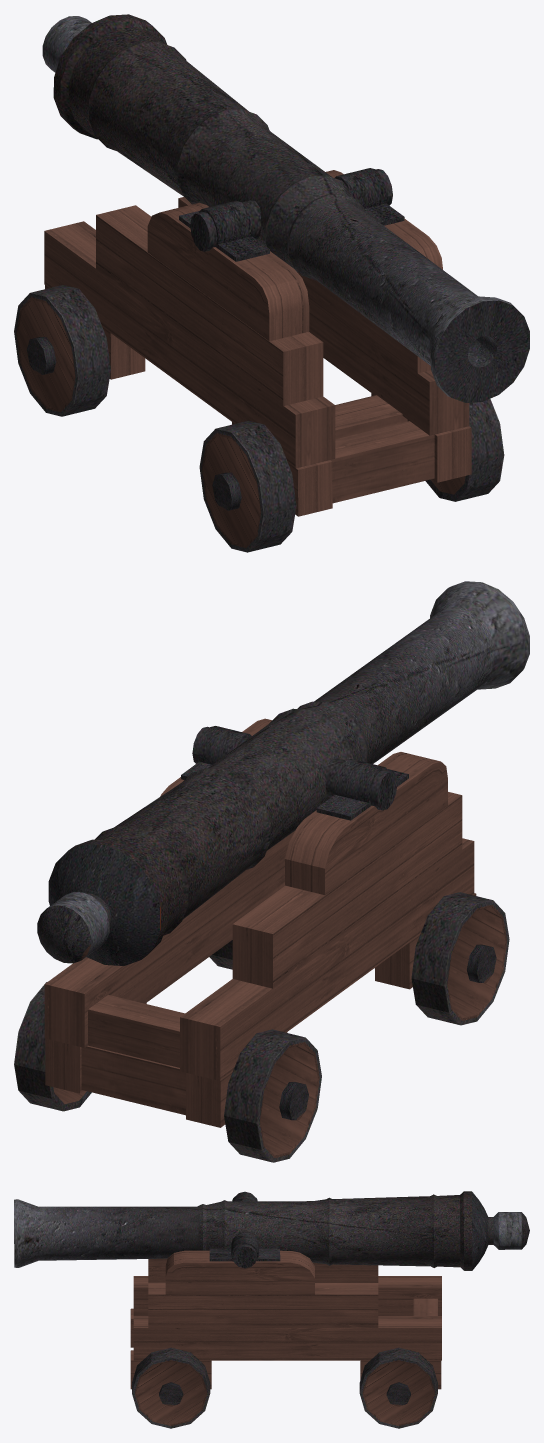
Rendered from yegongshenchechepao.FBX.
3 views of the same model, one above another, from view 1: azimuth 30°, elevation 25°; view 2: azimuth 150°, elevation 25°; view 3: azimuth 270°, elevation 25° (orthographic). The views are drawn at different scales.
Parts seen in each view (by area): view 1: chezuo, pao, lunzi2, lunzi3, lunzi1; view 2: chezuo, pao, lunzi2, lunzi3, lunzi4; view 3: chezuo, pao, lunzi4, lunzi1.
Part boxes in pixels (bbox=[...]): chezuo: bbox=[27, 168, 471, 516]; pao: bbox=[42, 14, 529, 402]; lunzi2: bbox=[199, 420, 296, 552]; lunzi3: bbox=[14, 285, 110, 416]; lunzi1: bbox=[425, 399, 504, 501]; chezuo: bbox=[44, 718, 496, 1127]; pao: bbox=[37, 581, 529, 965]; lunzi2: bbox=[411, 892, 509, 1025]; lunzi3: bbox=[224, 1029, 321, 1162]; lunzi4: bbox=[14, 982, 91, 1111]; chezuo: bbox=[130, 1191, 441, 1406]; pao: bbox=[14, 1191, 529, 1270]; lunzi4: bbox=[359, 1347, 437, 1428]; lunzi1: bbox=[132, 1347, 210, 1428].
Size of the model in its own units: 122 by 146 by 343.
